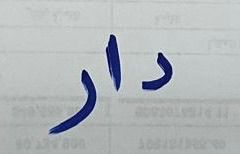reh: (37, 65, 99, 140)
teh_marbota: (101, 27, 129, 93)
waw: (133, 45, 182, 96)
